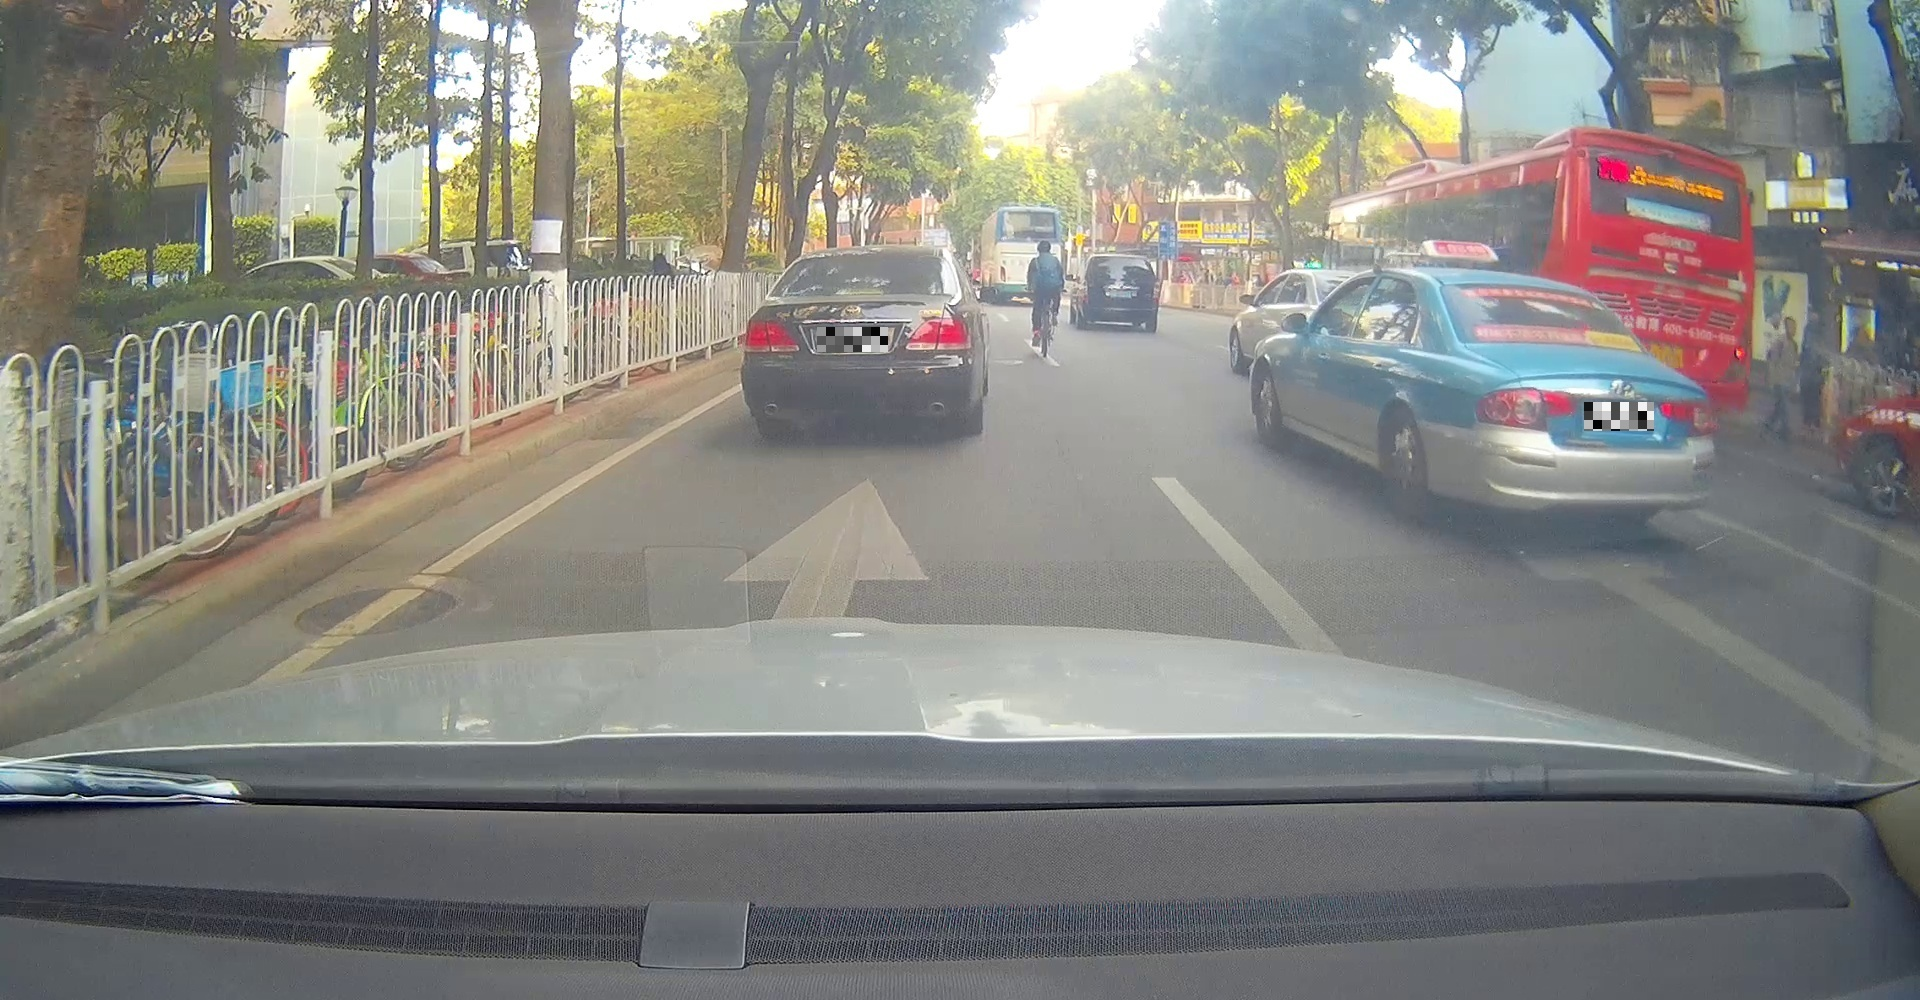L_light: (1473, 381, 1577, 431), (744, 319, 800, 355), (1081, 280, 1087, 302)
R_light: (1656, 393, 1716, 437), (905, 313, 971, 350), (1154, 280, 1158, 303)
T_light: (836, 287, 883, 294), (1525, 288, 1550, 298), (1115, 258, 1129, 260)
day-no: (1432, 266, 1717, 534), (739, 244, 980, 433), (1079, 253, 1159, 331)
plate_1: (817, 327, 888, 352)
plate_2: (1583, 402, 1655, 431)
